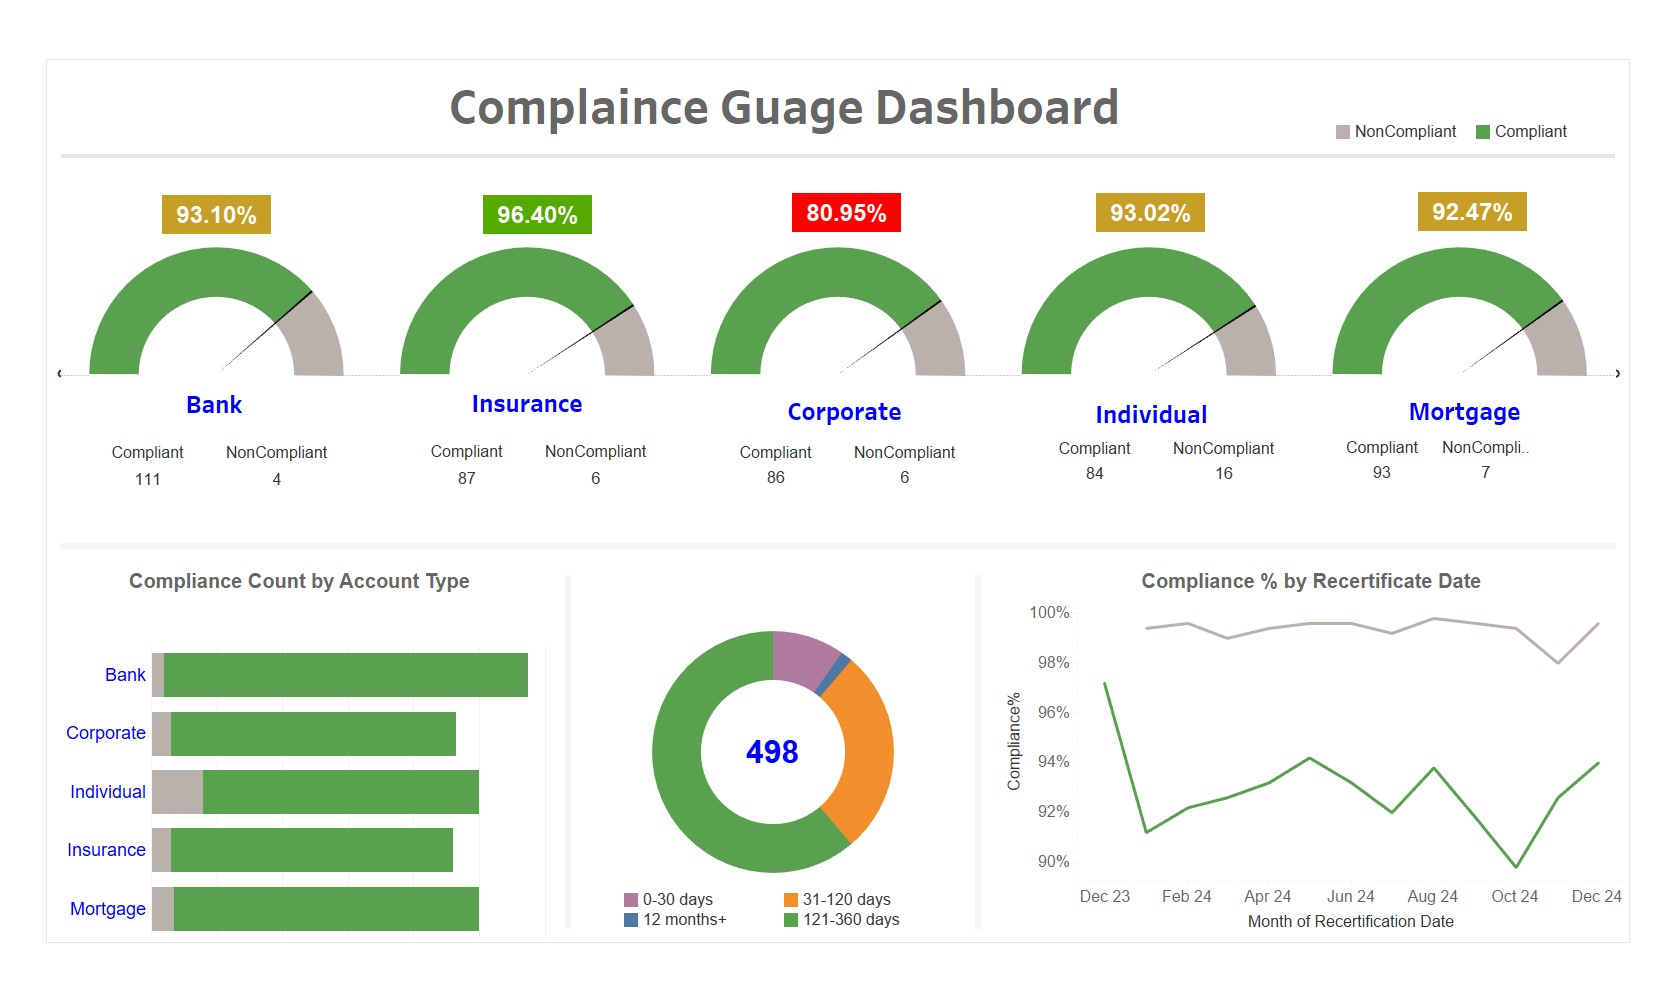

This screenshot's page, from the dashboard's own definition file:
{"tool":"tableau","page":{"name":"Compliance","canvas":[1600,900],"ordinal":0},"visuals":[{"type":"text","box":[318,14,857,78]},{"type":"legend","title":"bar","param":"[federated.1k2sf1d0rhblux169vo7x125n7lq].[none:Status:nk]","box":[1295,71,287,25]},{"type":"worksheet","title":"whlcomp","mark":"Automatic","box":[1380,141,109,39]},{"type":"worksheet","title":"indvComp","mark":"Automatic","box":[754,142,109,39]},{"type":"worksheet","title":"venComp","mark":"Automatic","box":[1058,142,109,39]},{"type":"worksheet","title":"corpcomp","mark":"Automatic","box":[124,144,109,39]},{"type":"worksheet","title":"bcomp","mark":"Automatic","box":[445,144,109,39]},{"type":"worksheet","title":"Guage","mark":"Pie","rows":["Calculation_2030560509287489538","Calculation_2030560509287501828"],"cols":["Account Type"],"box":[9,168,1582,311]},{"type":"text","box":[414,330,150,43]},{"type":"text","box":[122,331,108,43]},{"type":"text","box":[736,338,141,43]},{"type":"text","box":[1357,338,139,43]},{"type":"text","box":[1044,341,139,43]},{"type":"worksheet","title":"whlmetr","mark":"Automatic","cols":["Status"],"box":[1292,387,208,50]},{"type":"worksheet","title":"indvmetr","mark":"Automatic","cols":["Status"],"box":[992,388,258,50]},{"type":"worksheet","title":"corpmet","mark":"Automatic","cols":["Status"],"box":[364,391,258,54]},{"type":"worksheet","title":"bmetrix","mark":"Automatic","cols":["Status"],"box":[45,392,258,54]},{"type":"worksheet","title":"ven","mark":"Automatic","cols":["Status"],"box":[673,392,258,50]},{"type":"worksheet","title":"bar","mark":"Automatic","rows":["Account Type"],"cols":["Calculation_2030560509286031360"],"box":[9,511,505,380]},{"type":"worksheet","title":"donut","mark":"Pie","rows":["Calculation_2030560509335322648","Calculation_2030560509335334938"],"box":[546,511,378,380]},{"type":"worksheet","title":"linechart","mark":"Automatic","rows":["Calculation_2030560509289492485"],"cols":["Recertification Date"],"box":[956,511,635,380]},{"type":"legend","title":"donut","param":"[federated.1k2sf1d0rhblux169vo7x125n7lq].[none:Calculation_2030560509332852758:n","box":[583,839,349,45]}]}

Visuals, with their boxes on the page's 1600x900 design canvas (x1, y1, x2, y2). These are canvas units, not pixel positions in the 1657x987 screenshot, which may show the page scaled, cropped or inside an application window:
text: {"left": 318, "top": 14, "right": 1175, "bottom": 92}
"bar" legend: {"left": 1295, "top": 71, "right": 1582, "bottom": 96}
"whlcomp" worksheet: {"left": 1380, "top": 141, "right": 1489, "bottom": 180}
"indvComp" worksheet: {"left": 754, "top": 142, "right": 863, "bottom": 181}
"venComp" worksheet: {"left": 1058, "top": 142, "right": 1167, "bottom": 181}
"corpcomp" worksheet: {"left": 124, "top": 144, "right": 233, "bottom": 183}
"bcomp" worksheet: {"left": 445, "top": 144, "right": 554, "bottom": 183}
"Guage" worksheet (Pie marks): {"left": 9, "top": 168, "right": 1591, "bottom": 479}
text: {"left": 414, "top": 330, "right": 564, "bottom": 373}
text: {"left": 122, "top": 331, "right": 230, "bottom": 374}
text: {"left": 736, "top": 338, "right": 877, "bottom": 381}
text: {"left": 1357, "top": 338, "right": 1496, "bottom": 381}
text: {"left": 1044, "top": 341, "right": 1183, "bottom": 384}
"whlmetr" worksheet: {"left": 1292, "top": 387, "right": 1500, "bottom": 437}
"indvmetr" worksheet: {"left": 992, "top": 388, "right": 1250, "bottom": 438}
"corpmet" worksheet: {"left": 364, "top": 391, "right": 622, "bottom": 445}
"bmetrix" worksheet: {"left": 45, "top": 392, "right": 303, "bottom": 446}
"ven" worksheet: {"left": 673, "top": 392, "right": 931, "bottom": 442}
"bar" worksheet: {"left": 9, "top": 511, "right": 514, "bottom": 891}
"donut" worksheet (Pie marks): {"left": 546, "top": 511, "right": 924, "bottom": 891}
"linechart" worksheet: {"left": 956, "top": 511, "right": 1591, "bottom": 891}
"donut" legend: {"left": 583, "top": 839, "right": 932, "bottom": 884}
